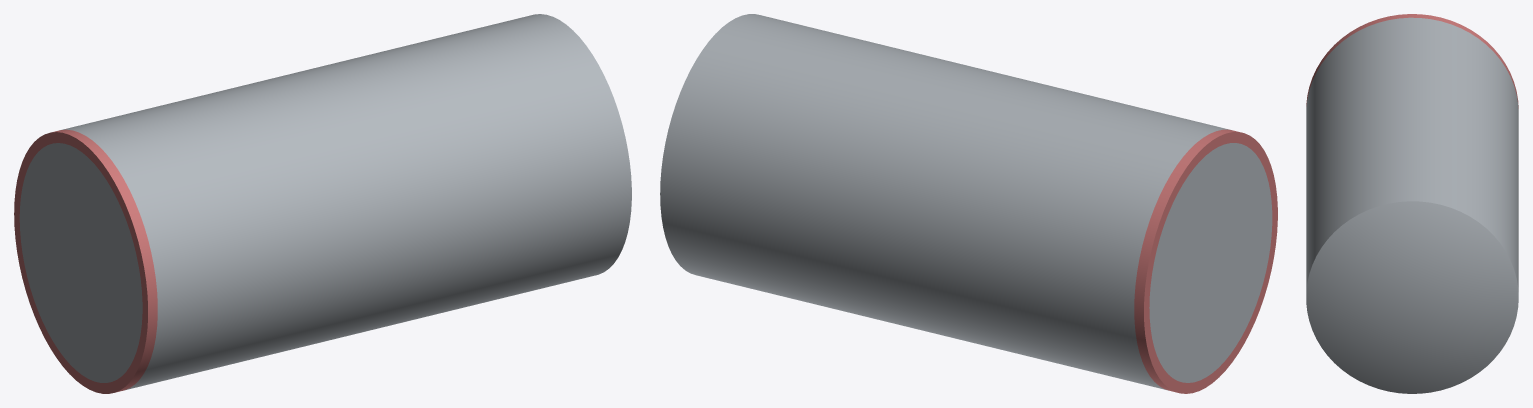
The model's file is step_03.glb.
3 renders of one model, left to right at view 1: azimuth 30°, elevation 25°; view 2: azimuth 150°, elevation 25°; view 3: azimuth 270°, elevation 25°, orthographic. The views are drawn at different scales.
Parts seen in each view (by area): view 1: part__domed pin SR30, removed__domed pin SR30; view 2: part__domed pin SR30, removed__domed pin SR30; view 3: part__domed pin SR30, removed__domed pin SR30.
Boxes of the visible parts, bbox=[...] form: part__domed pin SR30: bbox=[19, 14, 631, 390]; removed__domed pin SR30: bbox=[14, 129, 157, 393]; part__domed pin SR30: bbox=[660, 14, 1272, 390]; removed__domed pin SR30: bbox=[1134, 129, 1277, 393]; part__domed pin SR30: bbox=[1306, 17, 1518, 393]; removed__domed pin SR30: bbox=[1306, 14, 1518, 108].
Size of the model in its own units: 52.5 by 23.99 by 23.99.
